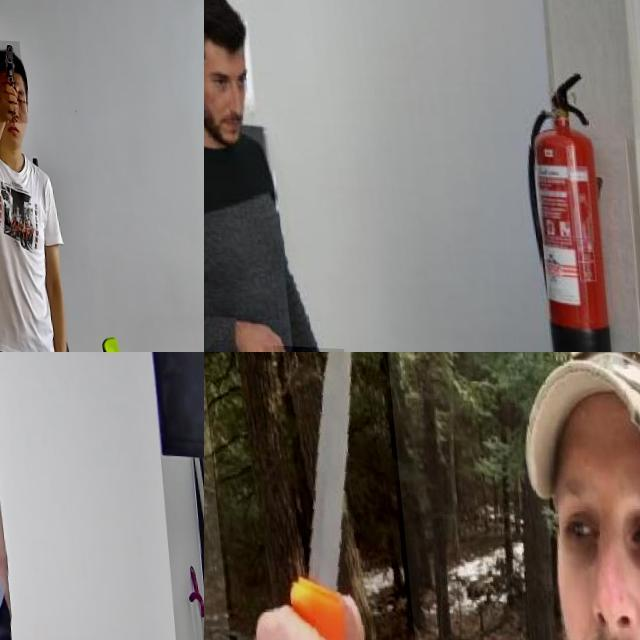-: (204, 352, 418, 640), (263, 343, 337, 352)
gun-knife-thesis - v11 Yolov5 augmented: (0, 380, 50, 466), (0, 37, 23, 120)
